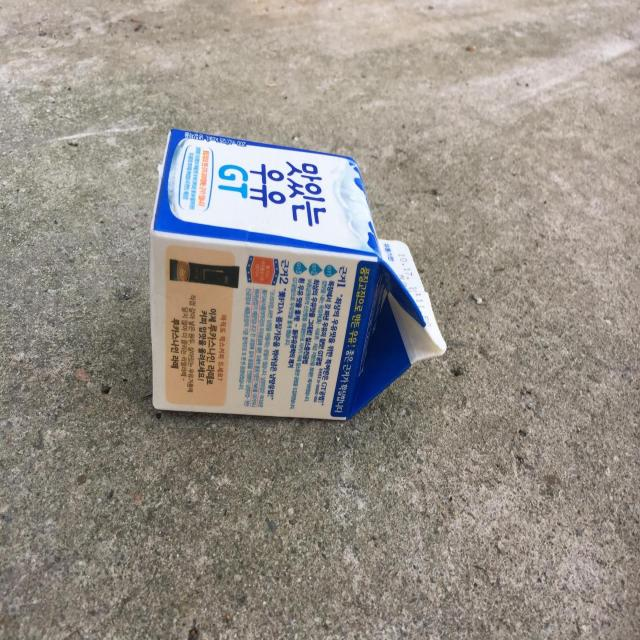paperpack: (149, 128, 446, 419)
